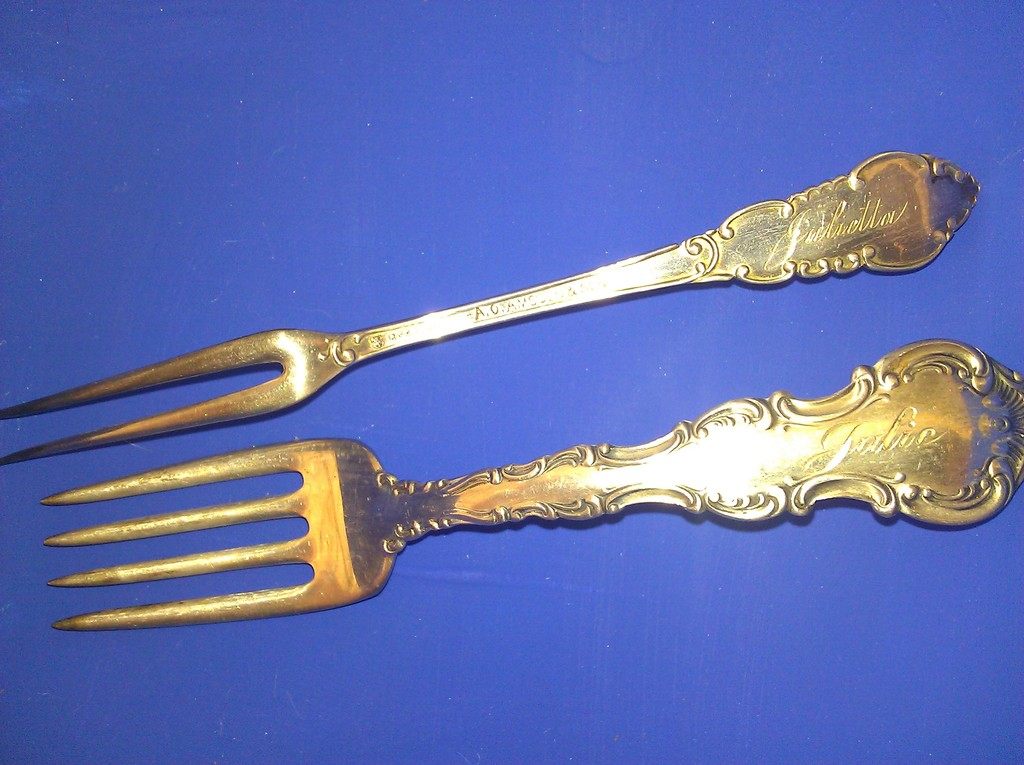fork: (0, 154, 977, 468), (39, 337, 1023, 631)
